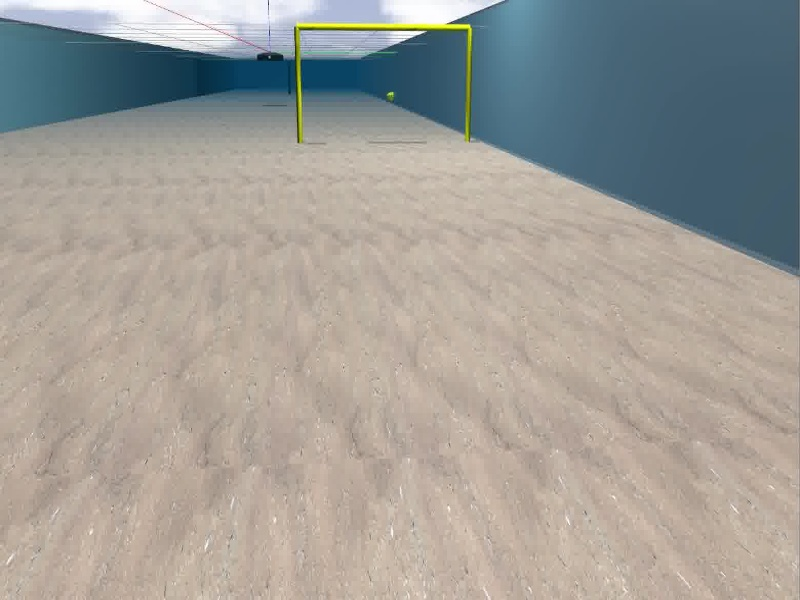gate: (294, 22, 473, 143)
